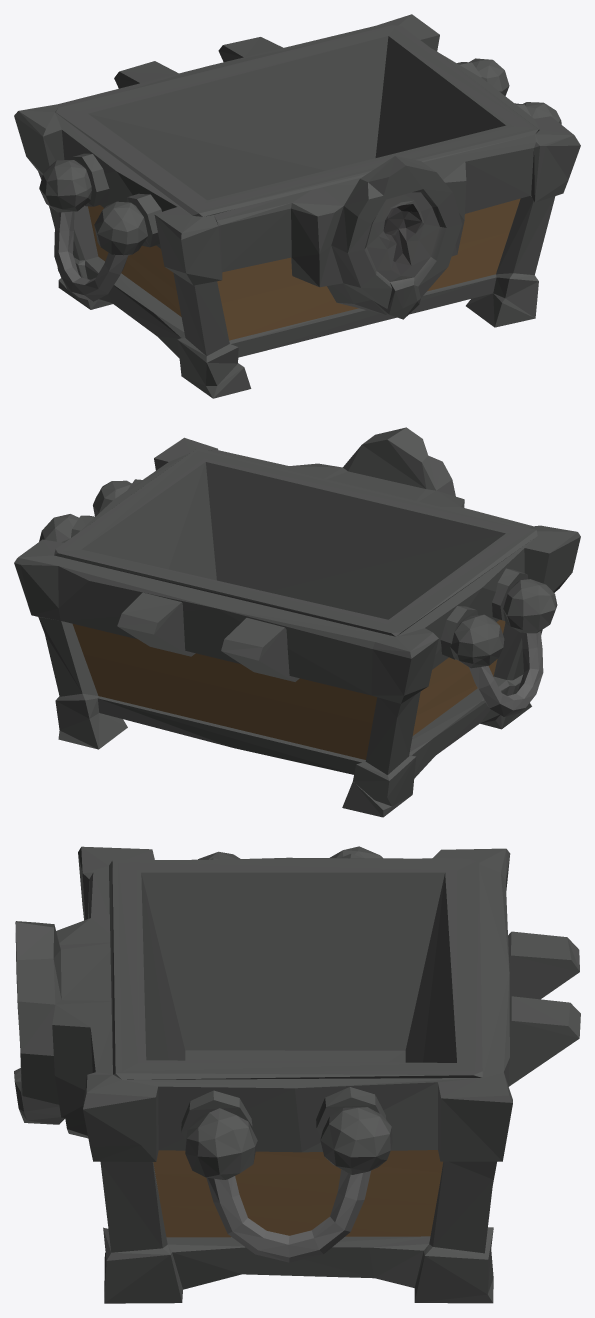
The model's file is Chest_001.fbx.
The picture shows the model from 3 angles, top to bottom: view 1: azimuth 30°, elevation 25°; view 2: azimuth 150°, elevation 25°; view 3: azimuth 270°, elevation 25°; orthographic projection. The views are drawn at different scales.
Visible parts, largest first — view 1: Chest_001; view 2: Chest_001; view 3: Chest_001.
Boxes of the visible parts, x1,y1,x2,y2 form: Chest_001: (14,14,580,398); Chest_001: (14,427,580,817); Chest_001: (14,846,580,1303).
Size of the model in its own units: 0.9705 by 0.4369 by 0.8035.
